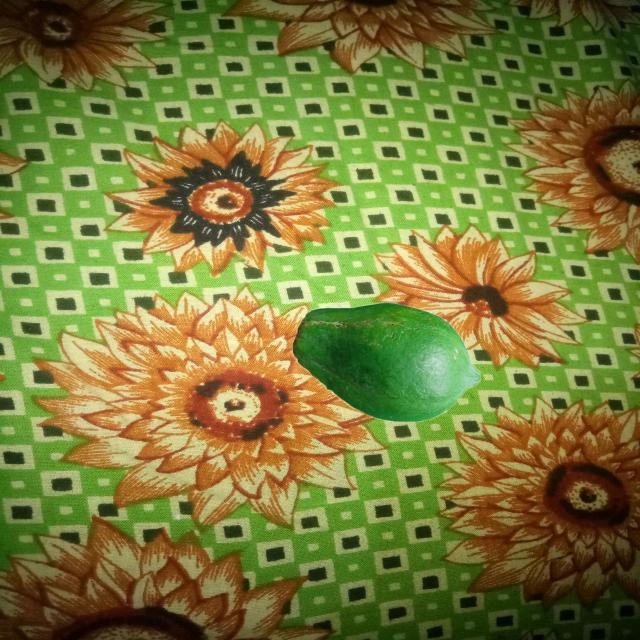Pepaya unrippen: (290, 302, 488, 428)
